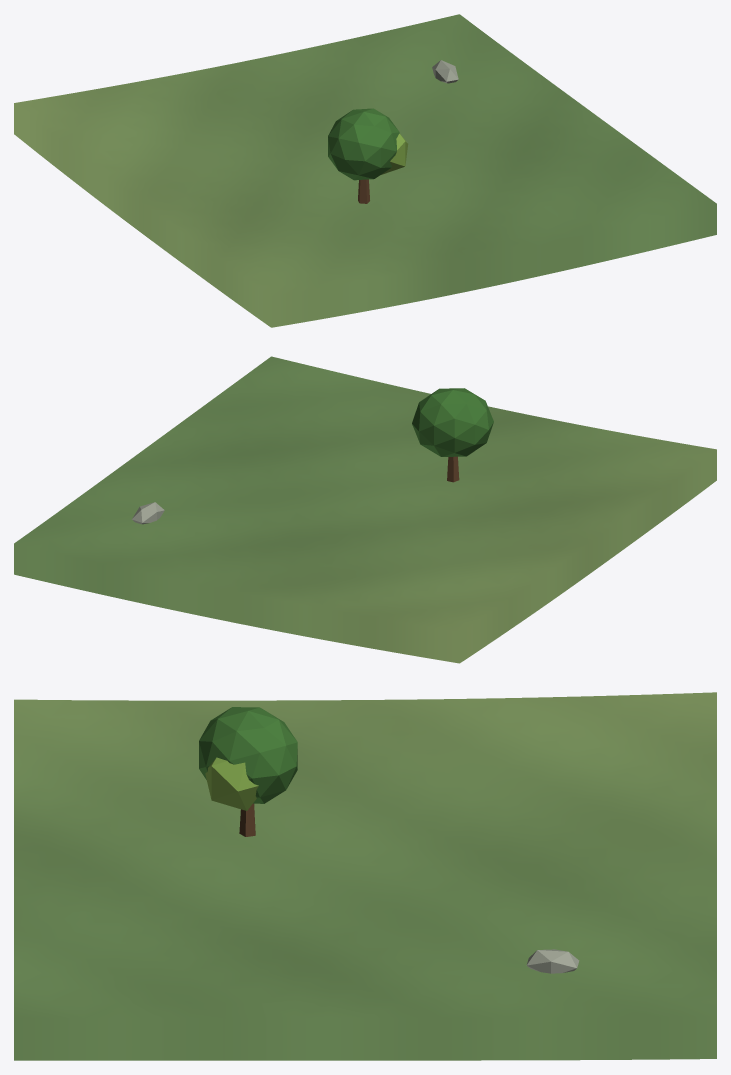
3 views of the same model, one above another, from view 1: azimuth 30°, elevation 25°; view 2: azimuth 150°, elevation 25°; view 3: azimuth 270°, elevation 25° (orthographic). The views are drawn at different scales.
Visible parts, largest first — view 1: terrain, scenery; view 2: terrain, scenery; view 3: terrain, scenery.
Boxes of the visible parts, x1,y1,x2,y2 form: terrain: (14,14,716,327); scenery: (328,60,458,203); terrain: (14,356,716,663); scenery: (132,388,493,524); terrain: (14,692,716,1060); scenery: (199,707,579,973).
Bounding box in the file's own units: 30 × 8.08 × 30.
